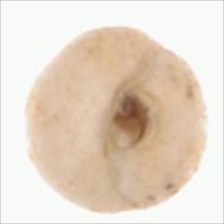L3: (103, 84, 154, 156)
L4: (27, 27, 206, 213)
